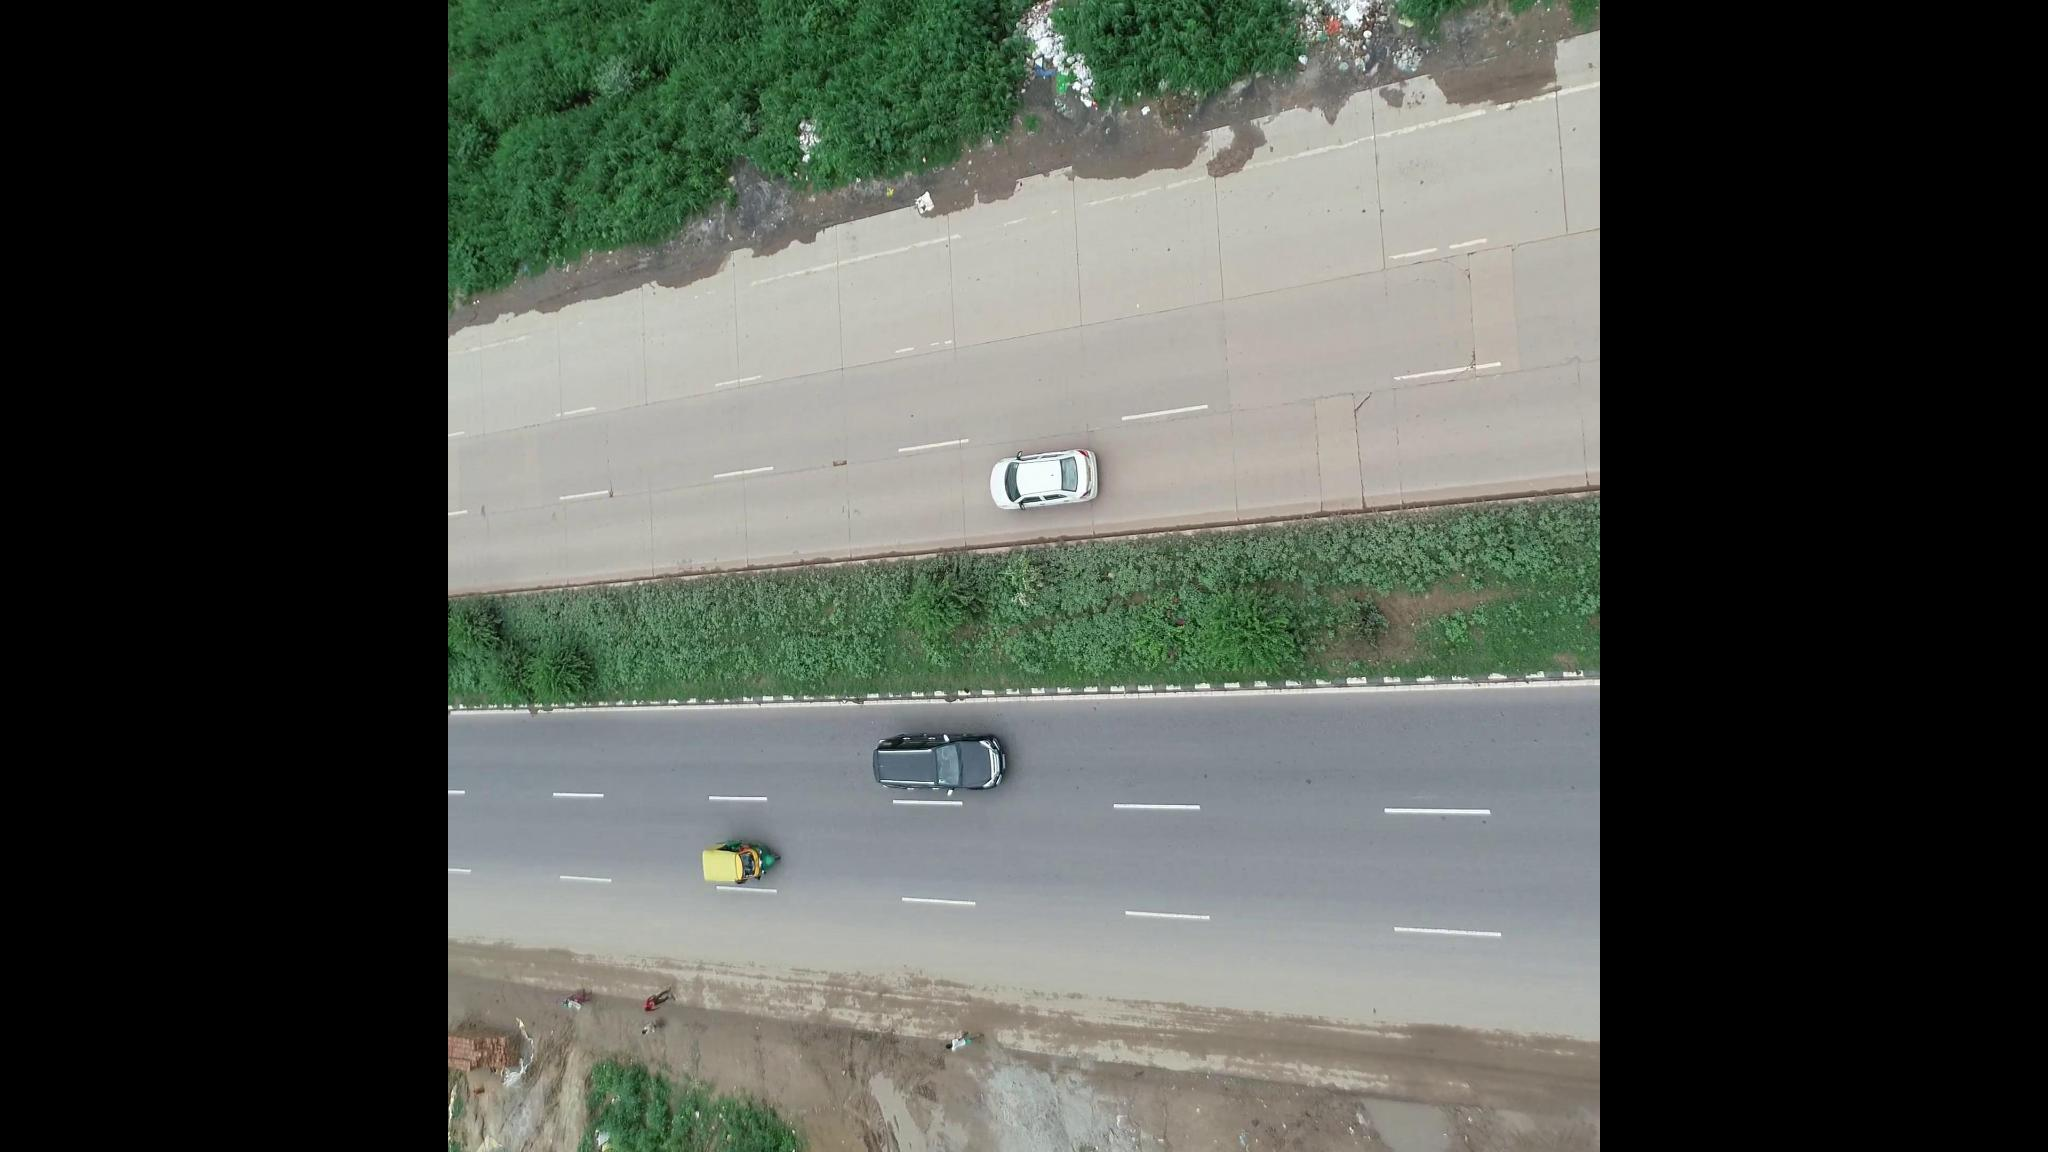Road_side_garbage: (1283, 1, 1409, 59)
